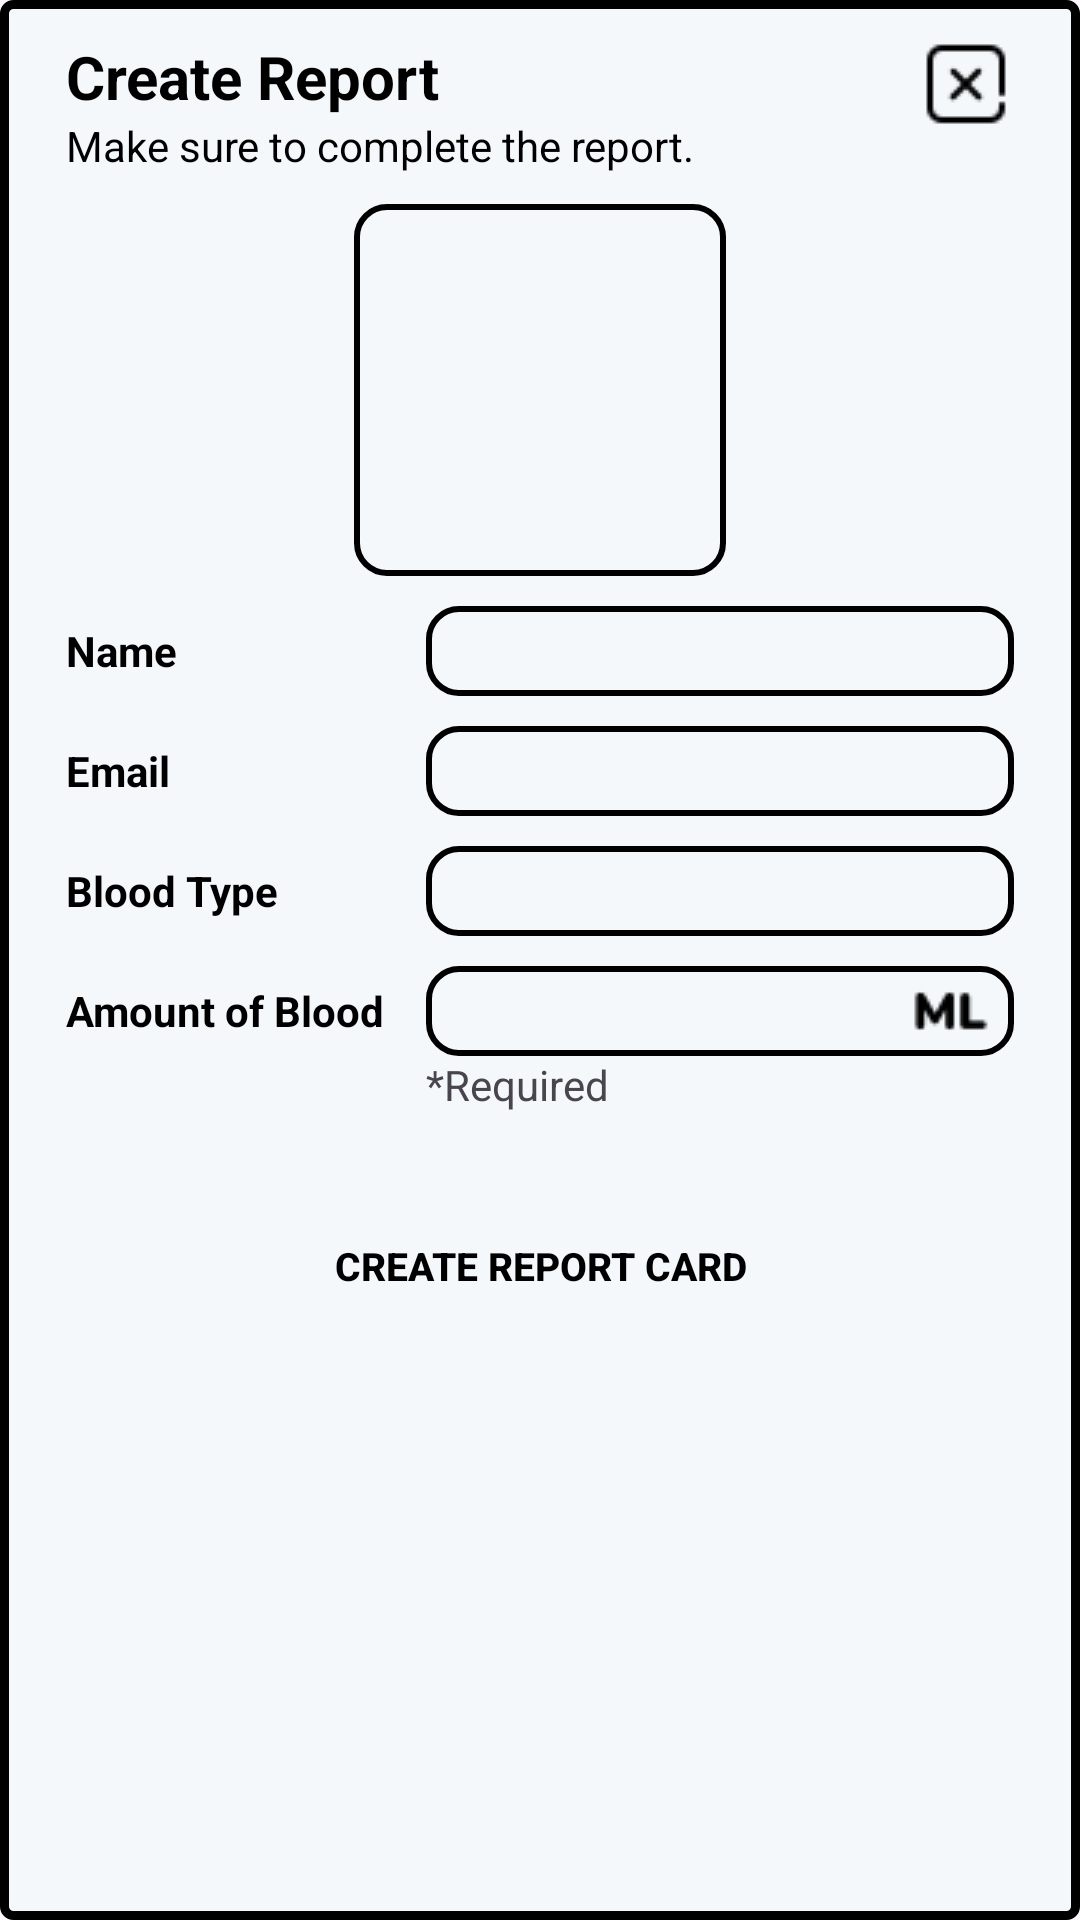

Locate icon controls on the screen. Image size 1080px×1920px, boxes as (x1, y1, x2, y2).
exit cross: (926, 44, 1006, 124)
